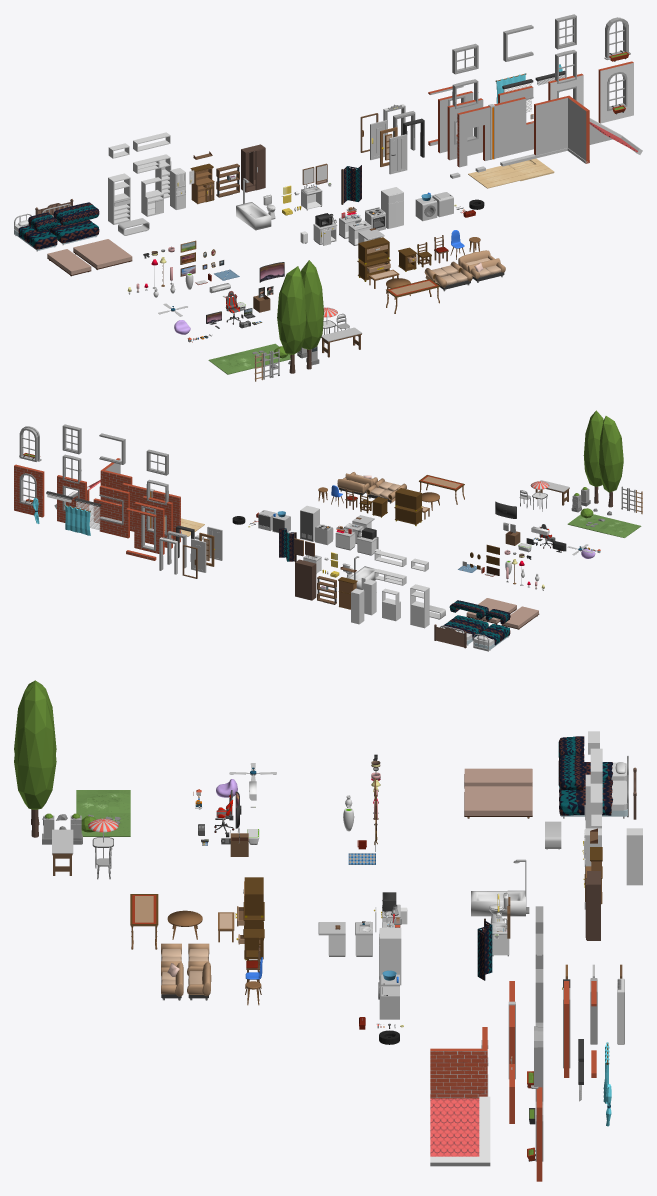
The model's file is Home_Set_LeoVNB.fbx.
3 renders of one model, top to bottom at view 1: azimuth 30°, elevation 25°; view 2: azimuth 150°, elevation 25°; view 3: azimuth 270°, elevation 25°, orthographic. The views are drawn at different scales.
Parts seen in each view (by area): view 1: Wall Standard (Corner) Alt, Big Tree 2, Wall Standard, Big Tree 1, Wall Standard (Door), Wall Standard (Window 4), Bed Base 1 (2), Wall Standard (Window 1), Drawer 1, Bed (2) Sheets, Wall Standard (Window 5), Separator (+17 smaller); view 2: Big Tree 2, Big Tree 1, Wall Standard (Window 4), Wall Standard (Window 2), Wardrobe, Wall Standard (Window 5), Drawer 1, Wall Standard (Corner) Alt, Wall Standard (Window 3), Simple Curtains (Closed), Wall Standard (Window 1), Fridge (+25 smaller); view 3: Big Tree 1, Wall Standard (Corner) Alt, Roof, Bed Base 1 (2), Bed Base 1 (1), Terrain 2, Bathtub, Bed (2) Sheets, Dining Table, Drawer-Cabinet (Alternative), Wardrobe, Fridge (+8 smaller).
Boxes of the visible parts, x1,y1,x2,y2 form: Wall Standard (Corner) Alt: (534, 95, 589, 163); Big Tree 2: (277, 266, 306, 373); Wall Standard: (494, 97, 526, 158); Big Tree 1: (301, 260, 323, 369); Wall Standard (Door): (457, 106, 490, 167); Wall Standard (Window 4): (598, 61, 633, 123); Bed Base 1 (2): (73, 239, 132, 269); Wall Standard (Window 1): (447, 98, 483, 160); Drawer 1: (108, 173, 130, 224); Bed (2) Sheets: (48, 220, 99, 242); Wall Standard (Window 5): (438, 91, 473, 153); Separator: (341, 165, 361, 204); Big Tree 2: (599, 416, 623, 507); Big Tree 1: (583, 410, 603, 503); Wall Standard (Window 4): (14, 464, 44, 517); Wall Standard (Window 2): (99, 485, 129, 538); Wardrobe: (295, 559, 316, 600); Wall Standard (Window 5): (134, 502, 164, 554); Drawer 1: (410, 584, 429, 628); Wall Standard (Corner) Alt: (100, 458, 132, 504); Wall Standard (Window 3): (57, 475, 86, 522); Simple Curtains (Closed): (65, 505, 90, 535); Wall Standard (Window 1): (142, 496, 172, 548); Fridge: (300, 506, 319, 541); Big Tree 1: (14, 683, 56, 837); Wall Standard (Corner) Alt: (430, 1027, 487, 1098); Roof: (430, 1098, 479, 1156); Bed Base 1 (2): (464, 786, 532, 818); Bed Base 1 (1): (464, 768, 532, 788); Terrain 2: (76, 790, 130, 812); Bathtub: (471, 890, 525, 916); Bed (2) Sheets: (559, 779, 612, 815); Dining Table: (130, 894, 158, 949); Drawer-Cabinet (Alternative): (626, 828, 642, 885); Wardrobe: (587, 871, 600, 940); Fridge: (381, 927, 401, 985).
Bounding box in the file's own units: 3515 × 673 × 2308.
